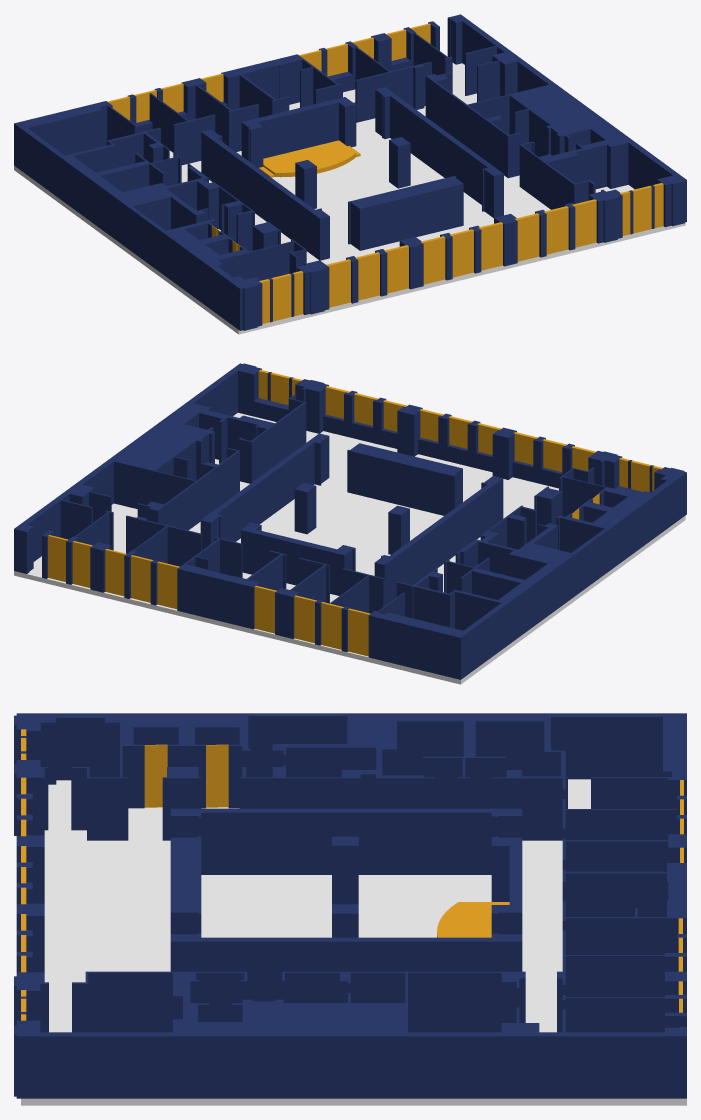
File: 16W 11th Floor.fbx
3 renders of one model, top to bottom at view 1: azimuth 30°, elevation 25°; view 2: azimuth 150°, elevation 25°; view 3: azimuth 270°, elevation 25°, orthographic. The views are drawn at different scales.
Visible parts, largest first — view 1: Walls, Interior Members, Object_102; view 2: Walls, Object_102, Interior Members; view 3: Walls, Object_102, Interior Members.
Part boxes in pixels (x1,y1,x2,y2): Walls: (14, 14, 686, 330); Interior Members: (107, 23, 663, 323); Object_102: (14, 63, 685, 334); Walls: (14, 363, 686, 679); Object_102: (14, 413, 685, 684); Interior Members: (48, 369, 662, 656); Walls: (14, 713, 686, 1098); Object_102: (21, 779, 686, 1105); Interior Members: (21, 729, 683, 1020).
Bounding box in the file's own units: 1201 × 1057 × 120.
